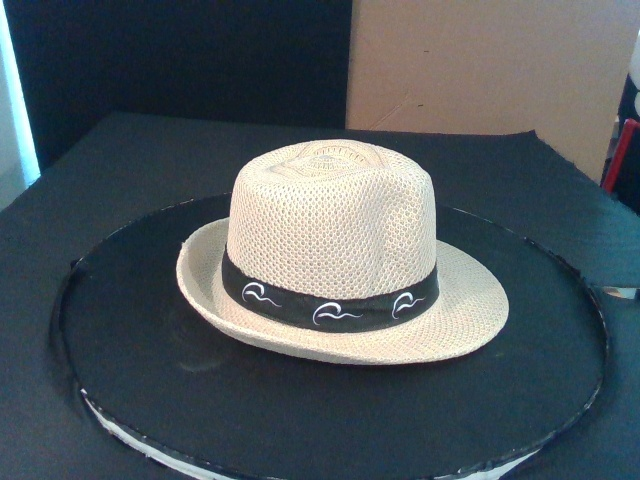hat: (173, 140, 510, 366)
